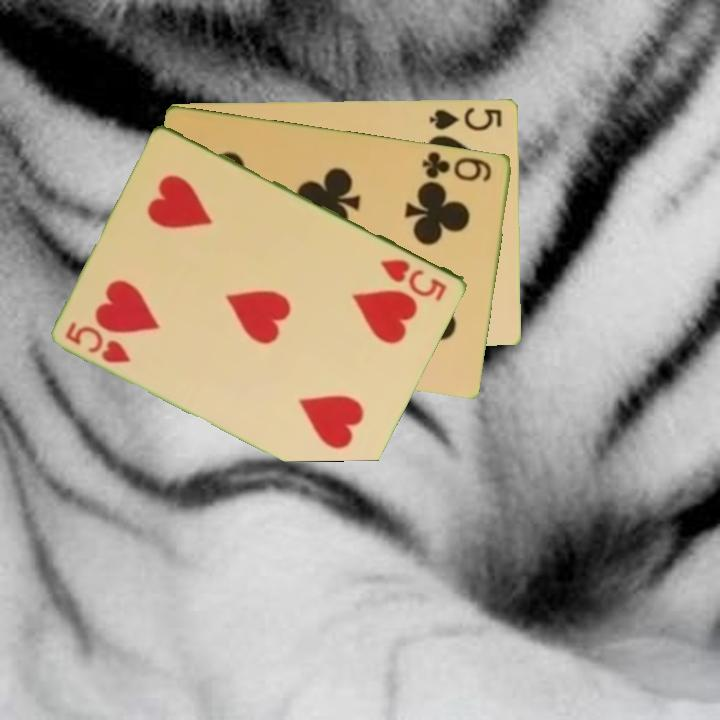5h: (376, 255, 451, 305), (62, 317, 134, 366)
5s: (426, 104, 505, 134)
6c: (418, 147, 495, 184)
